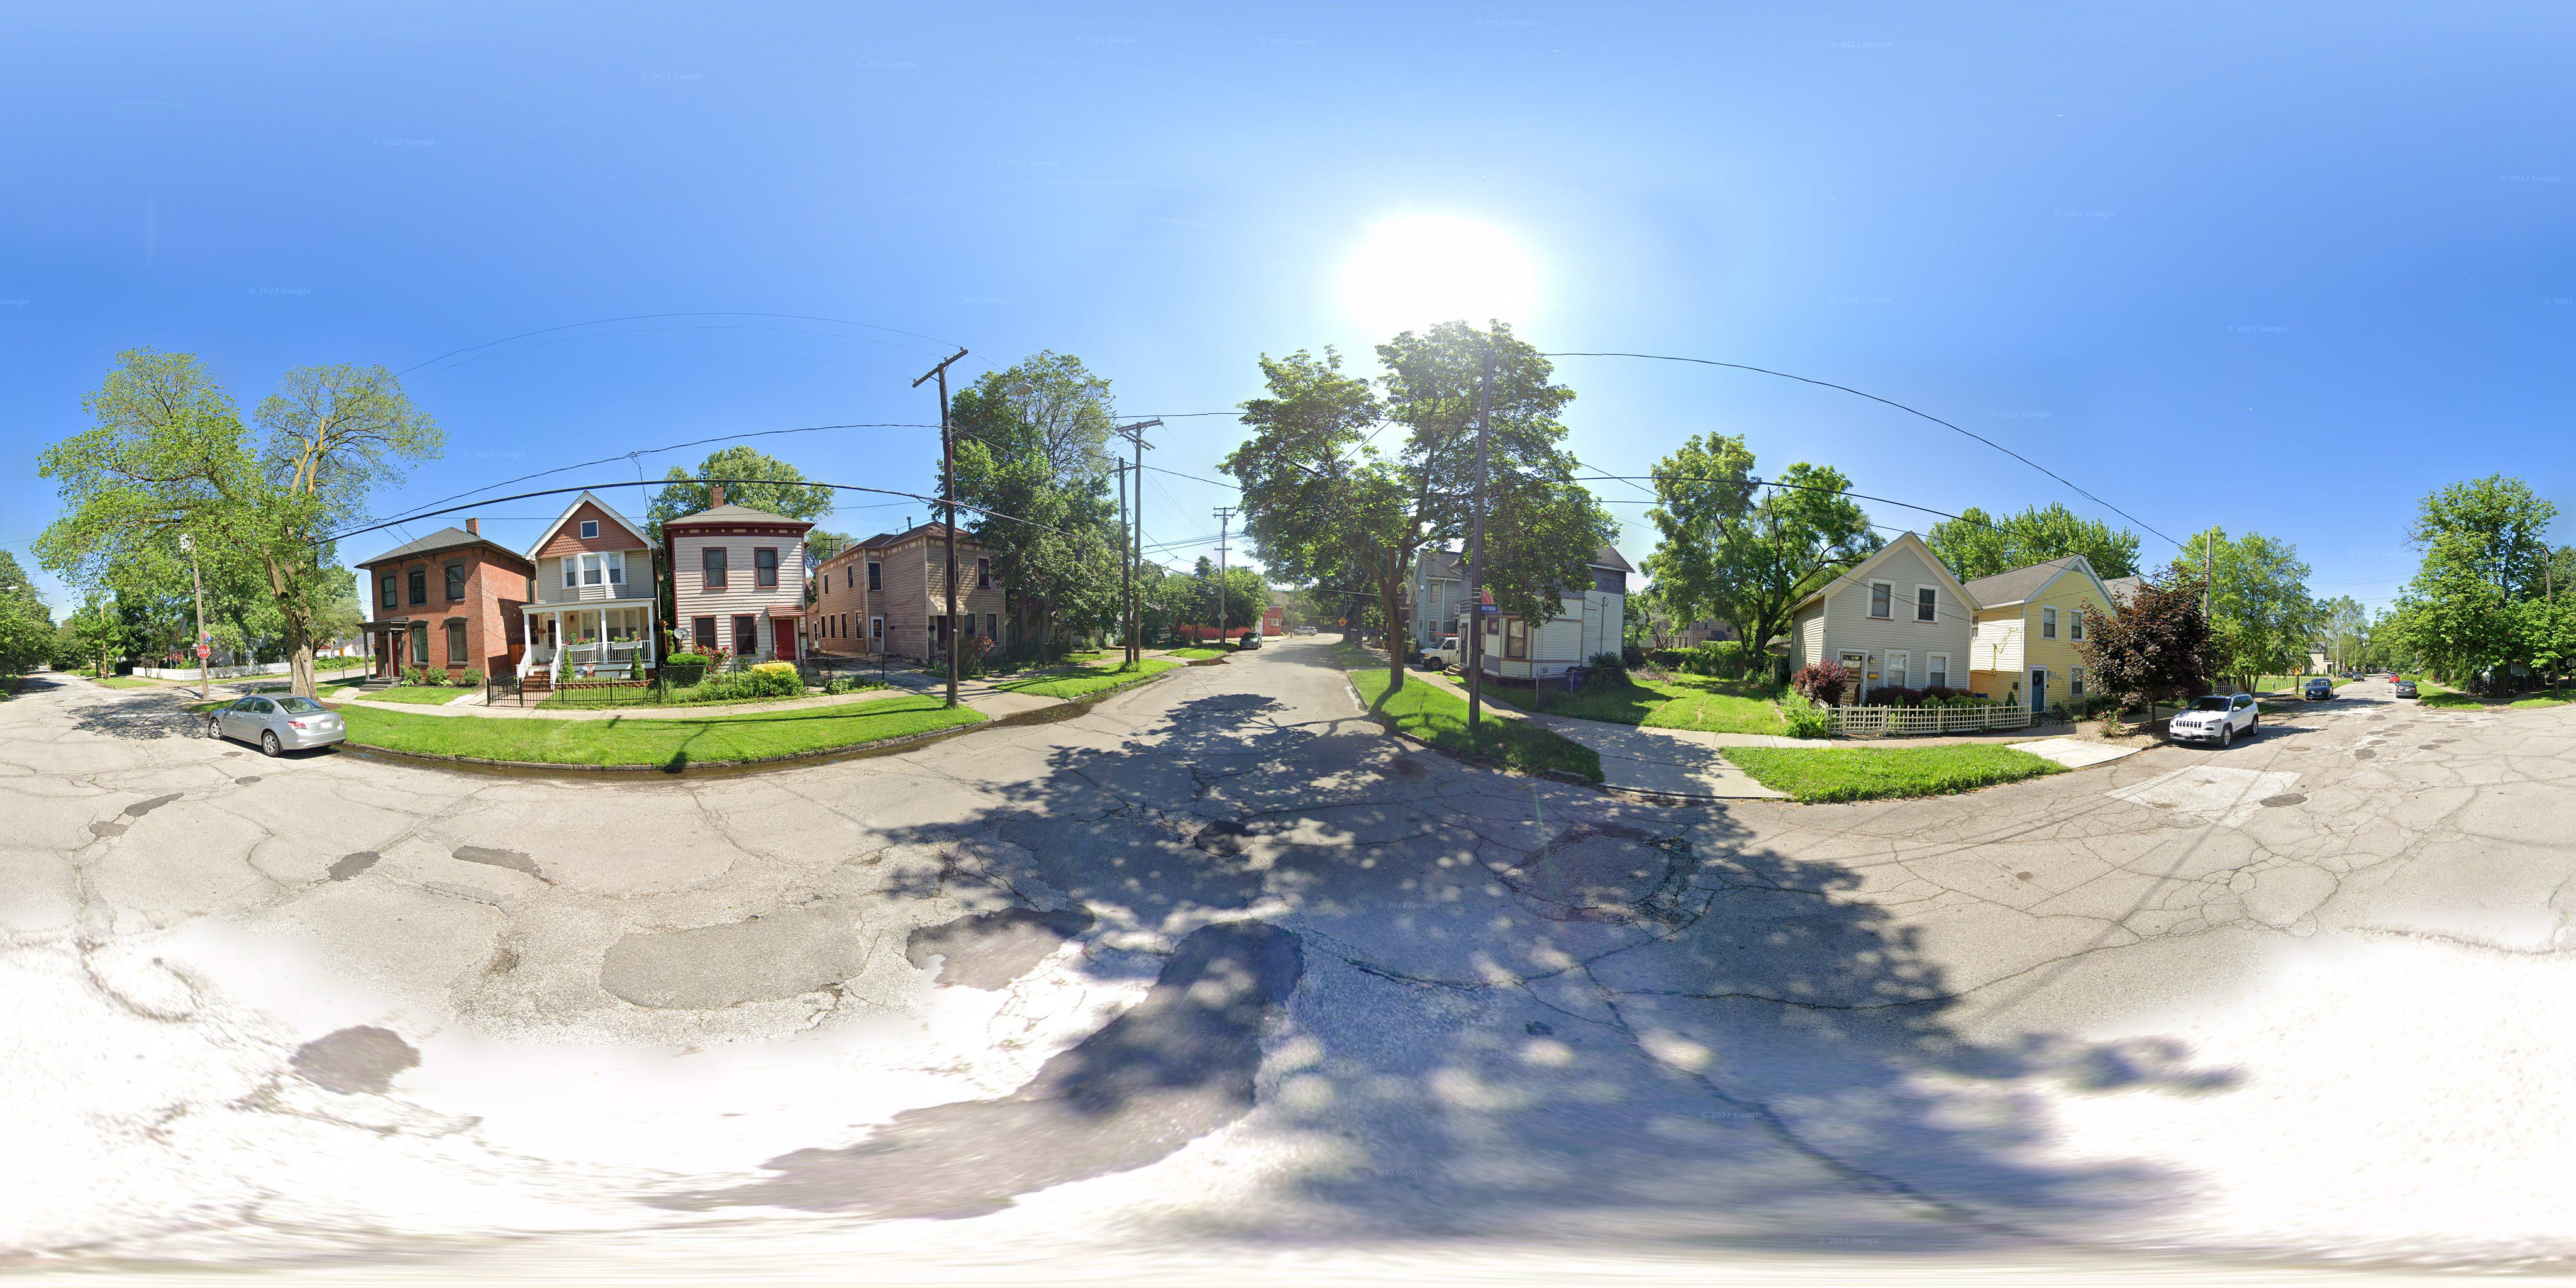Irregular Ramp: (1598, 757, 1778, 812)
